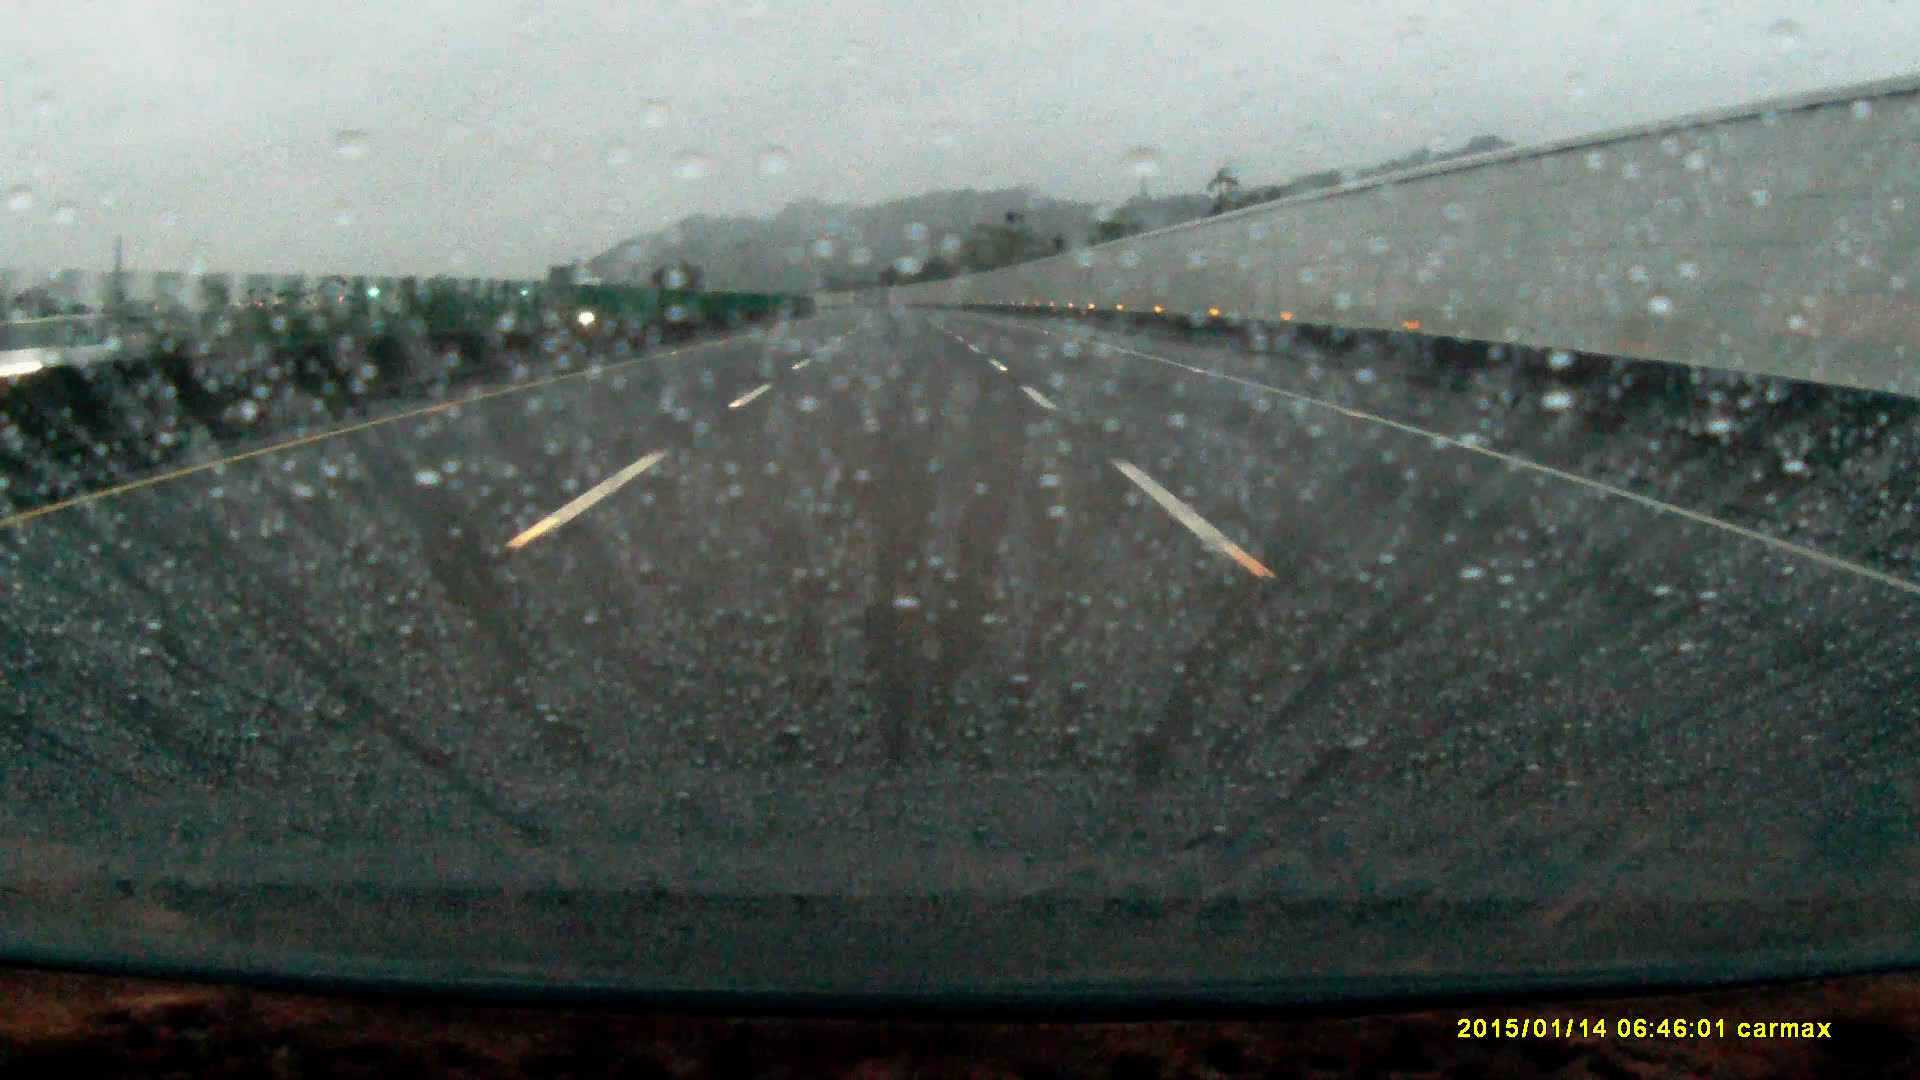vehicle: (1, 305, 135, 434), (547, 301, 622, 334)
